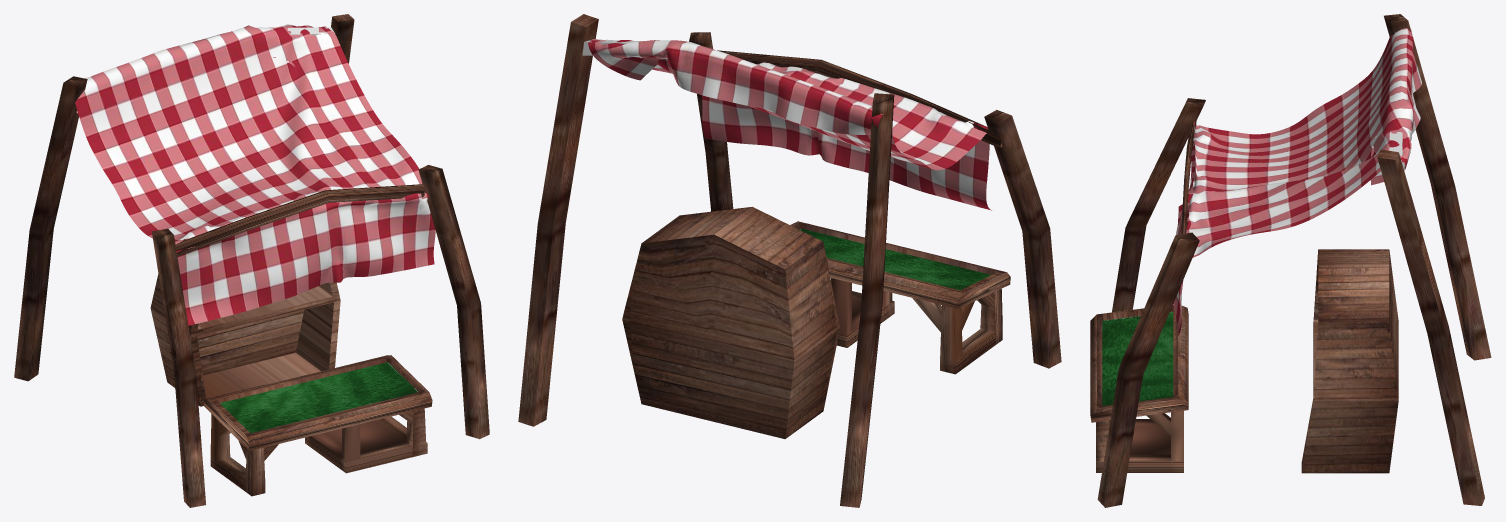
Rendered from MarketStall1.fbx.
The picture shows the model from 3 angles, left to right: view 1: azimuth 30°, elevation 25°; view 2: azimuth 150°, elevation 25°; view 3: azimuth 270°, elevation 25°; orthographic projection. The views are drawn at different scales.
Visible parts, largest first — view 1: Plane, Cube.003, Cube, Cube.008, Cube.005, Cube.004, Cube.002, Cube.006, Cube.001, Cube.007; view 2: Cube.003, Plane, Cube.007, Cube.008, Cube, Cube.004, Cube.001, Cube.006, Cube.005, Cube.002; view 3: Plane, Cube.003, Cube.007, Cube, Cube.005, Cube.008, Cube.004, Cube.002, Cube.006.
Part boxes in pixels (x1=…): Plane: x1=75, y1=24, x2=435, y2=325; Cube.003: x1=150, y1=274, x2=340, y2=406; Cube: x1=204, y1=355, x2=432, y2=450; Cube.008: x1=14, y1=76, x2=87, y2=381; Cube.005: x1=418, y1=165, x2=489, y2=439; Cube.004: x1=151, y1=228, x2=205, y2=507; Cube.002: x1=305, y1=408, x2=427, y2=473; Cube.006: x1=175, y1=184, x2=424, y2=256; Cube.001: x1=210, y1=414, x2=278, y2=496; Cube.007: x1=331, y1=14, x2=354, y2=63; Cube.003: x1=622, y1=206, x2=839, y2=438; Plane: x1=588, y1=39, x2=991, y2=210; Cube.007: x1=518, y1=14, x2=598, y2=426; Cube.008: x1=840, y1=93, x2=894, y2=507; Cube: x1=790, y1=221, x2=1010, y2=308; Cube.004: x1=984, y1=110, x2=1061, y2=368; Cube.001: x1=912, y1=289, x2=1002, y2=374; Cube.006: x1=717, y1=50, x2=1002, y2=148; Cube.005: x1=689, y1=32, x2=733, y2=211; Cube.002: x1=831, y1=278, x2=894, y2=347; Plane: x1=1173, y1=28, x2=1421, y2=335; Cube.003: x1=1301, y1=249, x2=1398, y2=473; Cube.007: x1=1377, y1=149, x2=1484, y2=505; Cube: x1=1090, y1=304, x2=1188, y2=422; Cube.005: x1=1097, y1=232, x2=1199, y2=507; Cube.008: x1=1384, y1=14, x2=1491, y2=360; Cube.004: x1=1112, y1=98, x2=1205, y2=312; Cube.002: x1=1096, y1=410, x2=1183, y2=472; Cube.006: x1=1181, y1=121, x2=1196, y2=234.
Size of the model in its own units: 3095 by 3265 by 3334.
